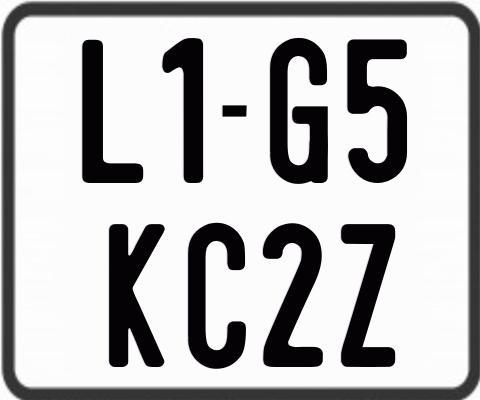1: (161, 35, 202, 180)
2: (260, 223, 322, 368)
5: (344, 39, 408, 186)
C: (185, 221, 247, 367)
G: (268, 37, 327, 188)
K: (109, 223, 165, 368)
L: (81, 40, 143, 183)
Z: (341, 224, 397, 367)
